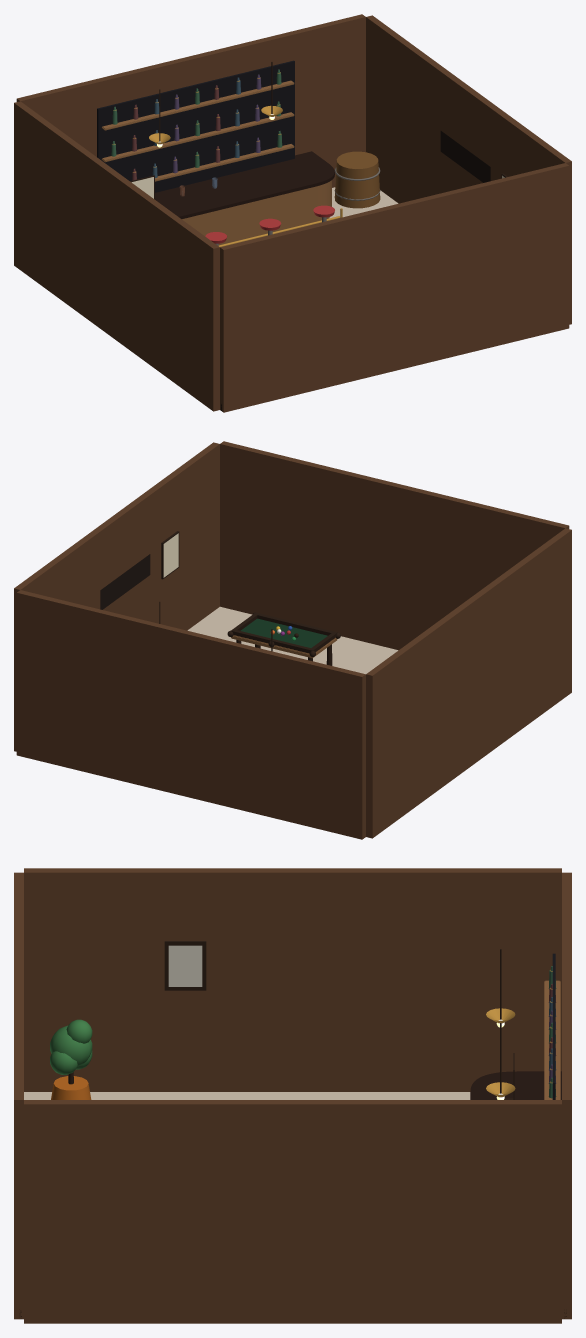
The model's file is bar.glb.
3 renders of one model, top to bottom at view 1: azimuth 30°, elevation 25°; view 2: azimuth 150°, elevation 25°; view 3: azimuth 270°, elevation 25°, orthographic. The views are drawn at different scales.
Parts seen in each view (by area): view 1: Wall_S, Wall_W, Wall_E, Wall_N, Shelf_Mirror, Counter_Top, Counter_Base, Barrel_Body, Welcome_Panel, Shelf_Board.002, Shelf_Board.001, Shelf_Board (+1 smaller); view 2: Wall_N, Wall_S, Wall_W, Wall_E, Floor, Pool_Felt, Welcome_Panel, Skill_Panel, Pool_Rail.001; view 3: Wall_E, Wall_W, Wall_N, Wall_S, Floor, Counter_Top, Photo_Panel, Shelf_Board.002, Plant_Leaves, Plant_Pot, Photo_Frame, Shelf_Mirror.
Boxes of the visible parts, left/top/right/bottom form: Wall_S: left=220, top=163, right=569, bottom=412; Wall_W: left=14, top=101, right=219, bottom=411; Wall_E: left=366, top=15, right=571, bottom=324; Wall_N: left=16, top=14, right=365, bottom=187; Shelf_Mirror: left=97, top=60, right=294, bottom=192; Counter_Top: left=155, top=151, right=334, bottom=218; Counter_Base: left=182, top=180, right=331, bottom=245; Barrel_Body: left=334, top=151, right=380, bottom=208; Welcome_Panel: left=440, top=131, right=490, bottom=182; Shelf_Board.002: left=101, top=80, right=294, bottom=130; Shelf_Board.001: left=101, top=112, right=294, bottom=162; Shelf_Board: left=155, top=144, right=294, bottom=181; Wall_N: left=16, top=590, right=365, bottom=839; Wall_S: left=220, top=441, right=569, bottom=650; Wall_W: left=366, top=528, right=571, bottom=838; Wall_E: left=14, top=442, right=219, bottom=751; Floor: left=187, top=606, right=398, bottom=674; Pool_Felt: left=240, top=618, right=327, bottom=647; Welcome_Panel: left=100, top=554, right=150, bottom=609; Skill_Panel: left=163, top=533, right=178, bottom=577; Pool_Rail.001: left=231, top=629, right=314, bottom=653; Wall_E: left=24, top=1100, right=561, bottom=1323; Wall_W: left=24, top=868, right=561, bottom=1091; Wall_N: left=562, top=872, right=571, bottom=1319; Wall_S: left=14, top=872, right=23, bottom=1319; Floor: left=24, top=1092, right=470, bottom=1099; Counter_Top: left=470, top=1071, right=561, bottom=1099; Photo_Panel: left=168, top=945, right=202, bottom=986; Shelf_Board.002: left=544, top=980, right=560, bottom=1099; Plant_Leaves: left=50, top=1025, right=92, bottom=1066; Plant_Pot: left=51, top=1076, right=91, bottom=1099; Photo_Frame: left=164, top=941, right=206, bottom=990; Shelf_Mirror: left=552, top=953, right=555, bottom=1099.
Size of the model in its own units: 8.3 by 3.6 by 8.3.
